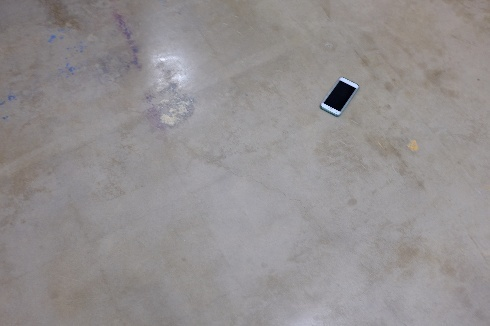phone: (316, 81, 365, 113)
